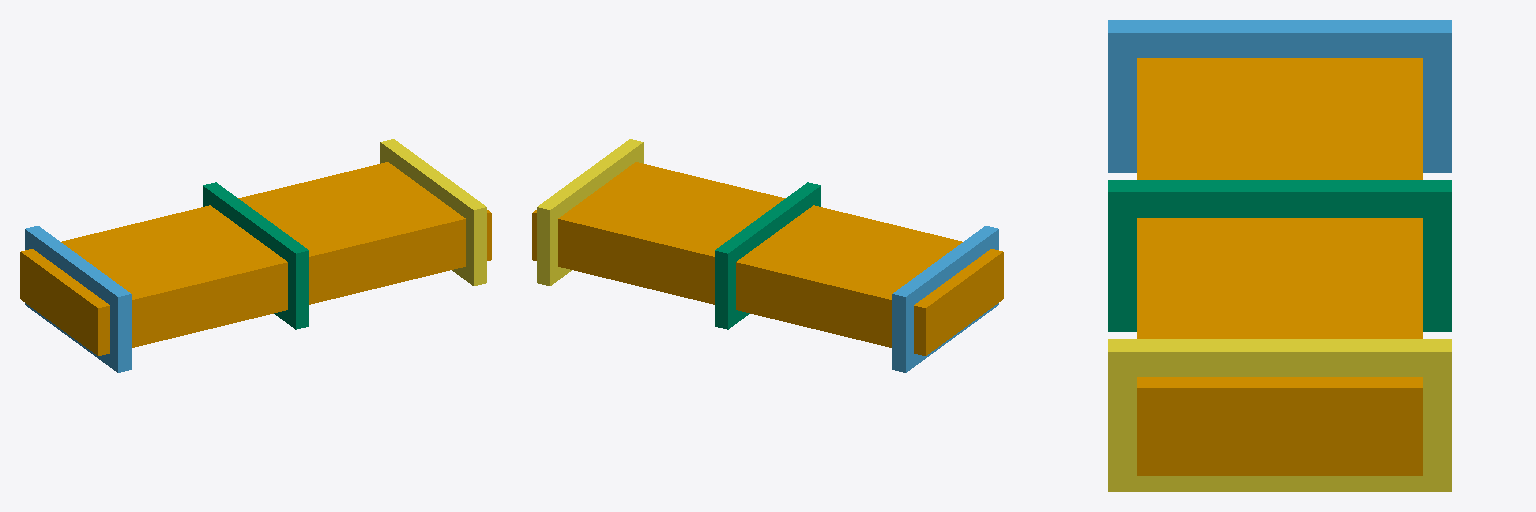
URDF robot description (debris009):
<?xml version="1.0" ?>
<robot name="debris009">

<link name="debris009">
<visual> <origin xyz="0 0 0" rpy="0 0 0" />
<geometry> <box size="1.46 0.50 0.17"/> </geometry>
</visual>
<collision> <origin xyz="0 0 0" rpy="0 0 0" />
<geometry> <box size="1.46 0.50 0.17"/> </geometry>
</collision>
<inertial> <origin xyz="0 0 0" rpy="0 0 0" />
<mass value="10.0" />
<inertia ixx="0.8433" ixy="0" ixz="0" iyy="0.8433" iyz="0" izz="0.8433" />
</inertial>
</link>
<gazebo reference="debris009"> <material>Gazebo/WoodFloor</material> </gazebo>

<link name="debris0090">
<visual> <origin xyz="-0.66 0 0" rpy="0 0 0" />
<geometry> <box size="0.05 0.60 0.27"/> </geometry>
</visual>
<collision> <origin xyz="-0.66 0 0" rpy="0 0 0" />
<geometry> <box size="0.05 0.60 0.27"/> </geometry>
</collision>
<inertial> <origin xyz="0 0 0" rpy="0 0 0" />
<mass value="0.1" />
<inertia ixx="0.0100" ixy="0" ixz="0" iyy="0.0100" iyz="0" izz="0.0100" />
</inertial>
</link>
<gazebo reference="debris0090"> <material>Gazebo/WoodFloor</material> </gazebo>

<joint name="debris0090joint" type="fixed">
<parent link="debris009"/>
<child link="debris0090"/>
<origin xyz="0 0 0" rpy="0 0 0" />
</joint>

<link name="debris0091">
<visual> <origin xyz="0.00 0 0" rpy="0 0 0" />
<geometry> <box size="0.05 0.60 0.27"/> </geometry>
</visual>
<collision> <origin xyz="0.00 0 0" rpy="0 0 0" />
<geometry> <box size="0.05 0.60 0.27"/> </geometry>
</collision>
<inertial> <origin xyz="0 0 0" rpy="0 0 0" />
<mass value="0.1" />
<inertia ixx="0.0100" ixy="0" ixz="0" iyy="0.0100" iyz="0" izz="0.0100" />
</inertial>
</link>
<gazebo reference="debris0091"> <material>Gazebo/WoodFloor</material> </gazebo>

<joint name="debris0091joint" type="fixed">
<parent link="debris009"/>
<child link="debris0091"/>
<origin xyz="0 0 0" rpy="0 0 0" />
</joint>

<link name="debris0092">
<visual> <origin xyz="0.66 0 0" rpy="0 0 0" />
<geometry> <box size="0.05 0.60 0.27"/> </geometry>
</visual>
<collision> <origin xyz="0.66 0 0" rpy="0 0 0" />
<geometry> <box size="0.05 0.60 0.27"/> </geometry>
</collision>
<inertial> <origin xyz="0 0 0" rpy="0 0 0" />
<mass value="0.1" />
<inertia ixx="0.0100" ixy="0" ixz="0" iyy="0.0100" iyz="0" izz="0.0100" />
</inertial>
</link>
<gazebo reference="debris0092"> <material>Gazebo/WoodFloor</material> </gazebo>

<joint name="debris0092joint" type="fixed">
<parent link="debris009"/>
<child link="debris0092"/>
<origin xyz="0 0 0" rpy="0 0 0" />
</joint>

</robot>

--- Render facts (derived) ---
The picture shows the robot from 3 angles, left to right: view 1: azimuth 30°, elevation 25°; view 2: azimuth 150°, elevation 25°; view 3: azimuth 270°, elevation 25°; orthographic projection.
Model debris009 with 4 links and 3 joints (3 fixed), rooted at debris009, posed all joints at 0.
Visible links, largest first — view 1: debris009, debris0090, debris0092, debris0091; view 2: debris009, debris0090, debris0092, debris0091; view 3: debris009, debris0092, debris0090, debris0091.
Boxes of the visible links, x1,y1,x2,y2 form: debris009: (20,162,491,355); debris0090: (25,226,131,372); debris0092: (380,139,486,285); debris0091: (203,182,308,329); debris009: (532,162,1003,355); debris0090: (892,226,998,372); debris0092: (537,139,643,285); debris0091: (715,182,820,329); debris009: (1137,58,1422,475); debris0092: (1108,339,1451,491); debris0090: (1108,20,1451,172); debris0091: (1108,180,1451,331).
Size in the robot's own frame: 1.46 by 0.6 by 0.27 metres.
Geometry: primitives only (box / cylinder / sphere), no mesh files.
